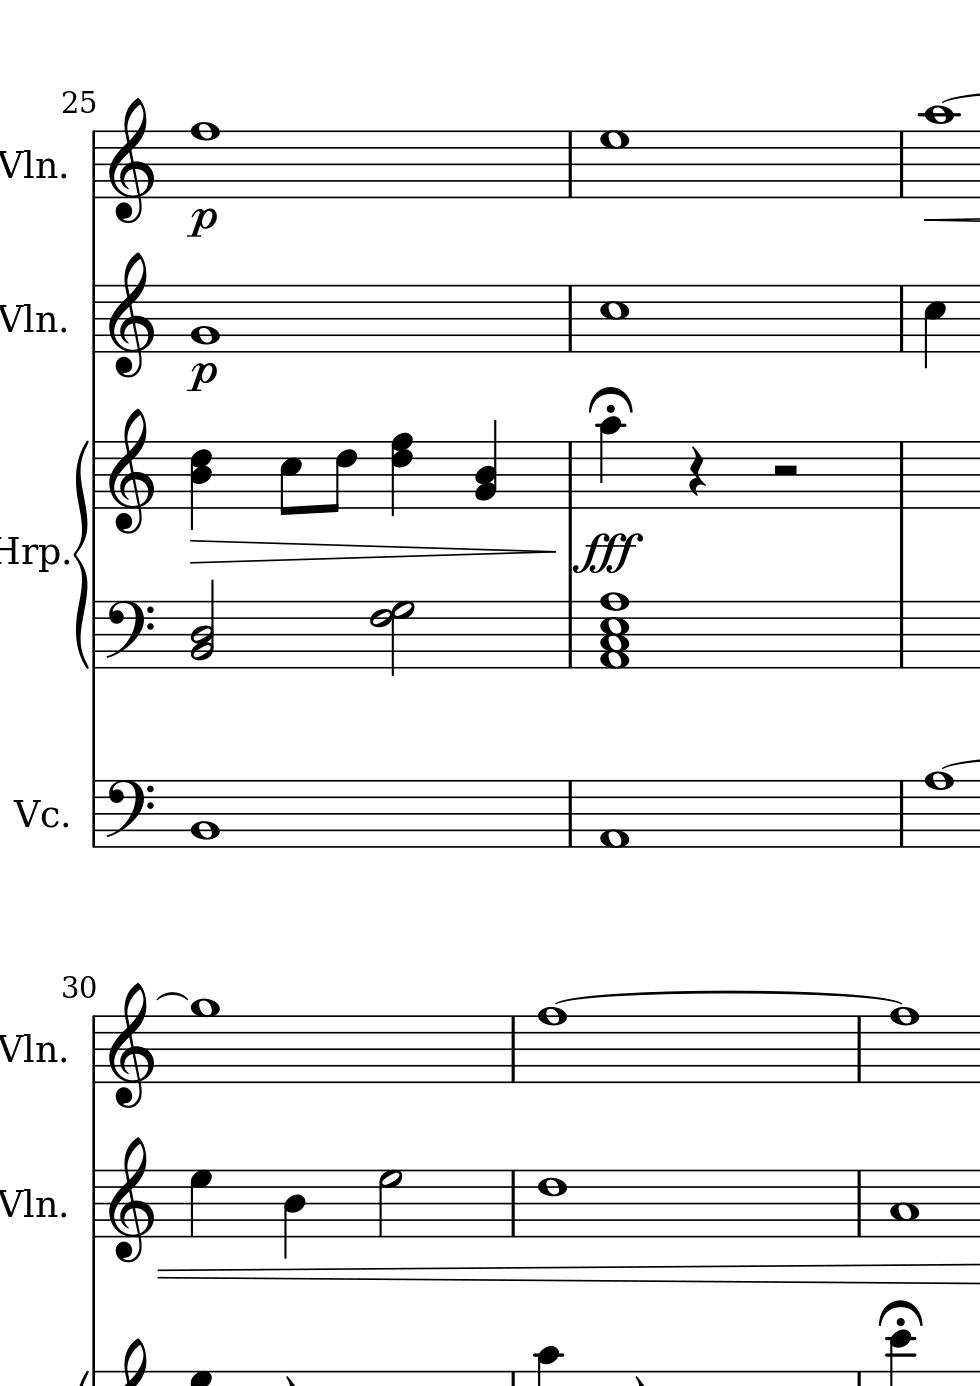0: (78, 973, 97, 1001)
1_1: (598, 777, 631, 852)
1_10: (921, 104, 957, 200)
1_2: (188, 777, 222, 850), (190, 283, 218, 355)
1_3: (888, 1165, 920, 1239)
1_4th: (597, 591, 632, 670)
1_5: (599, 282, 629, 356)
1_6: (536, 1166, 568, 1240)
1_7: (599, 130, 631, 201)
1_8: (887, 1005, 921, 1085), (922, 769, 955, 850), (536, 1005, 568, 1085), (189, 118, 220, 200)
1_9: (187, 997, 220, 1087)
2: (60, 89, 78, 116)
2_2_4: (188, 576, 216, 672)
2_6_7: (370, 600, 416, 679)
2_7: (377, 1166, 404, 1240)
3: (60, 973, 78, 1000)
4_10: (596, 416, 625, 512)
4_2_4: (474, 420, 498, 509)
4_4: (281, 1168, 307, 1257)
4_4_6: (189, 440, 214, 534)
4_5: (920, 282, 947, 372)
4_6_8: (390, 431, 414, 516)
4_7: (187, 1168, 213, 1239)
5: (78, 87, 97, 116)
8_5: (278, 439, 302, 517)
8_6: (325, 439, 357, 516)
Brace: (71, 435, 90, 673)
Diminuendo_hairpin: (190, 539, 558, 562)
Fclef: (103, 599, 154, 671), (103, 779, 153, 850)
Fermata_above: (875, 1298, 926, 1330), (587, 385, 636, 417)
Gclef: (105, 251, 155, 380), (106, 406, 155, 536), (106, 1135, 155, 1264), (106, 97, 154, 226), (106, 982, 153, 1110)
Rests2: (766, 462, 802, 483)
Rests4: (685, 444, 707, 498)
Single_barline: (560, 601, 581, 668), (560, 131, 580, 198), (504, 1170, 523, 1236), (561, 780, 579, 847), (892, 780, 910, 847), (561, 442, 579, 508), (504, 1016, 522, 1082), (850, 1171, 868, 1236), (561, 286, 579, 350), (893, 285, 910, 352), (893, 442, 910, 508), (850, 1017, 867, 1082), (86, 780, 102, 848), (893, 131, 909, 198), (893, 602, 909, 668), (86, 131, 101, 199), (86, 1016, 101, 1084), (87, 286, 102, 352), (88, 442, 102, 508), (87, 1171, 101, 1236), (89, 601, 102, 669)
Slur: (154, 992, 190, 1002)
Vln: (1, 1027, 59, 1070), (1, 1182, 59, 1225), (1, 299, 58, 339), (1, 145, 59, 185)
fff: (571, 530, 646, 576)
p: (186, 359, 218, 394), (186, 207, 217, 240)
